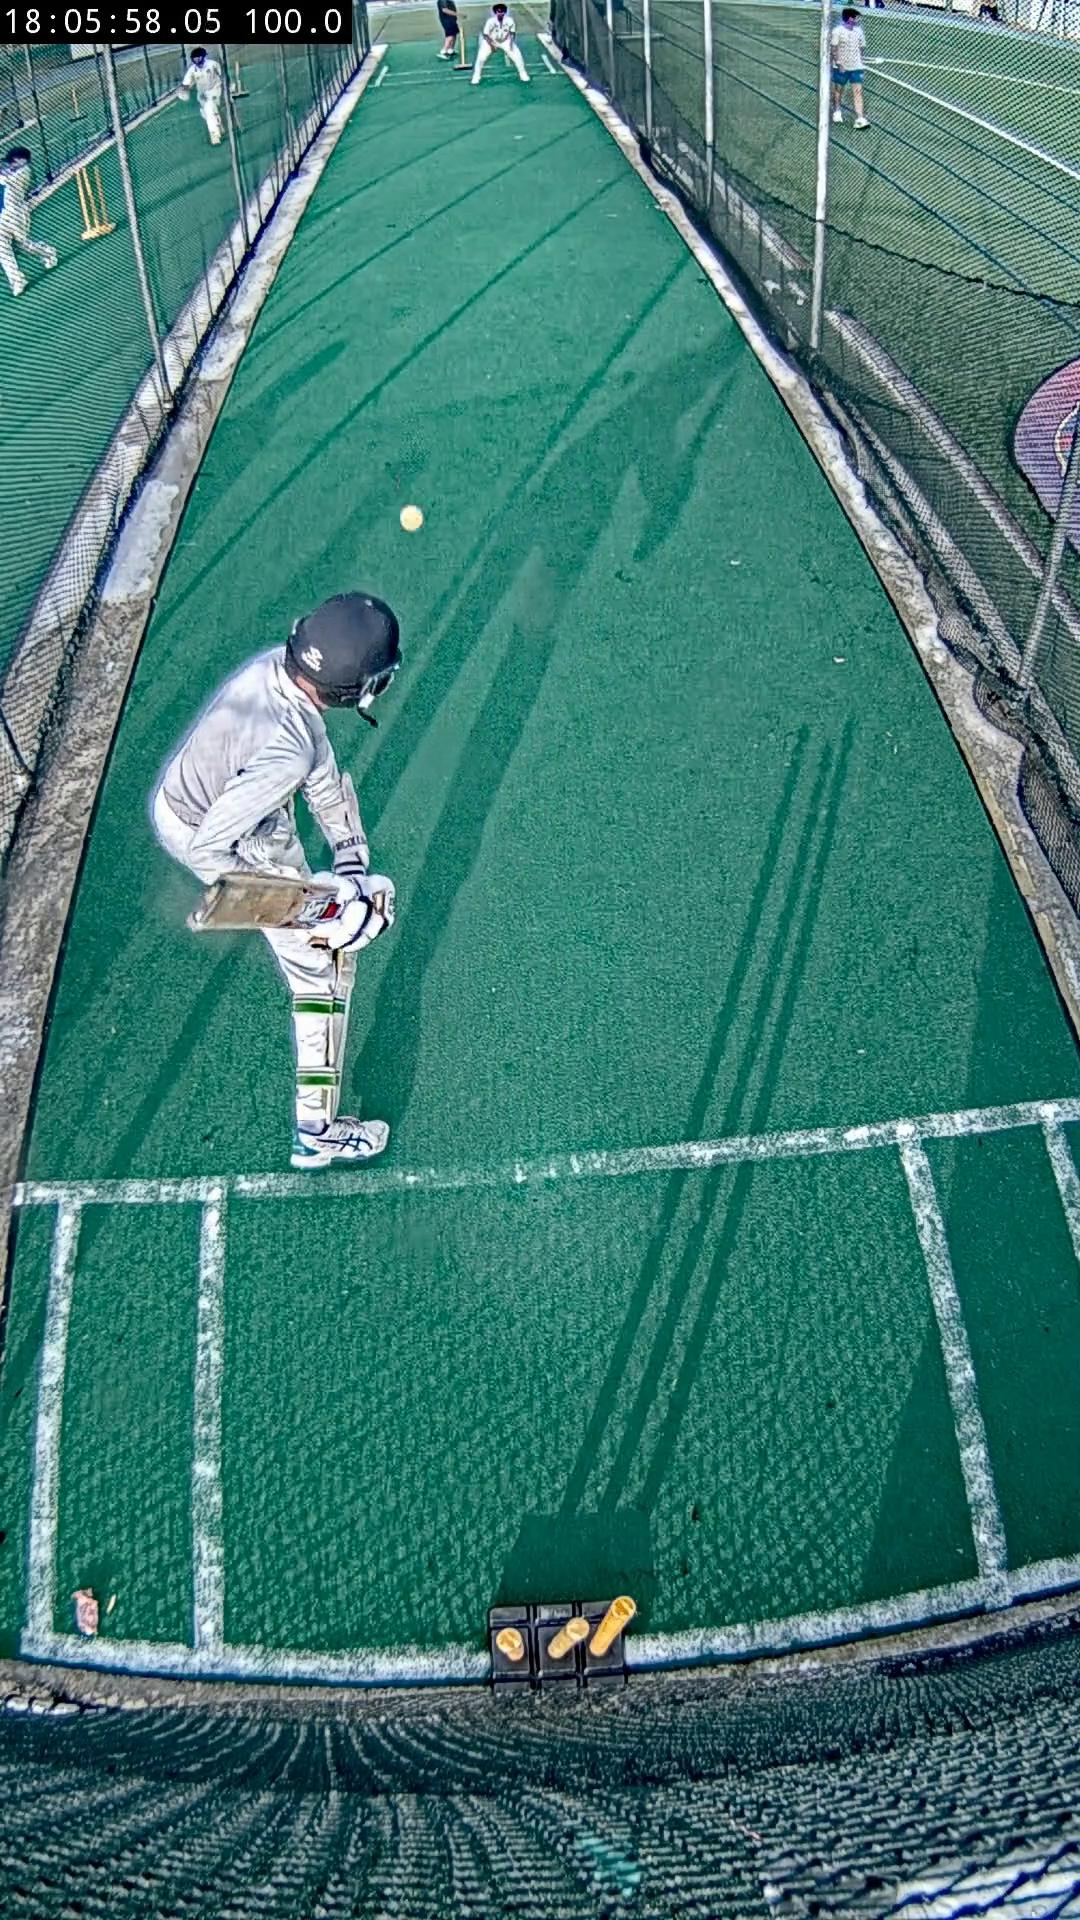ball: (401, 506, 423, 533)
bat: (187, 874, 338, 932)
gloves: (307, 874, 394, 952)
helmet: (289, 592, 401, 707)
pads: (330, 952, 356, 1079)
stumps: (488, 1597, 637, 1684)
